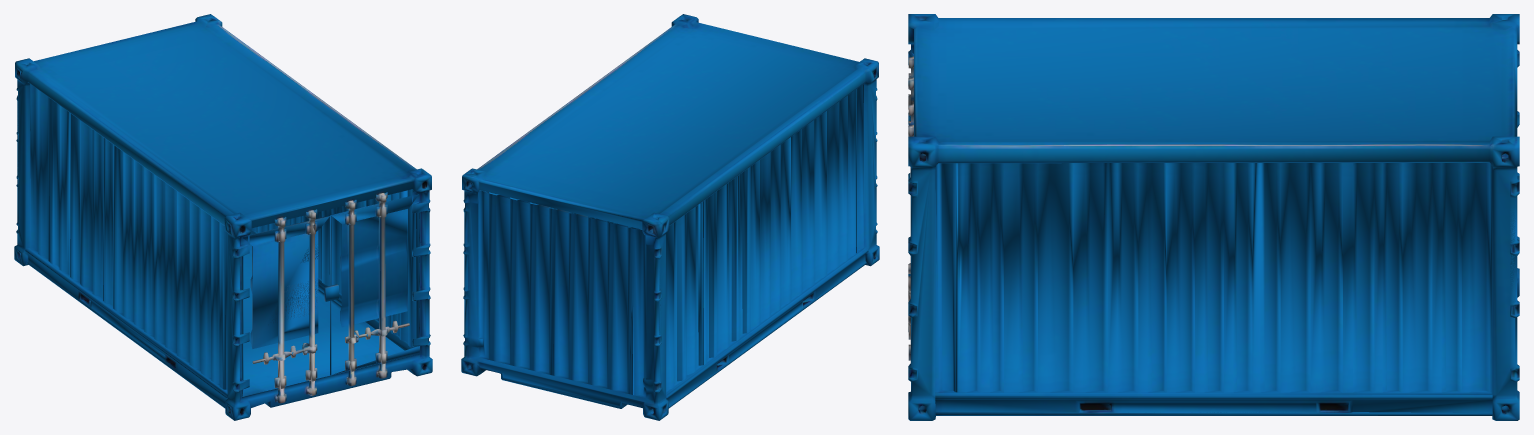
The model's file is blue_shipping_container_63cc3905_v4.glb.
3 renders of one model, left to right at view 1: azimuth 30°, elevation 25°; view 2: azimuth 150°, elevation 25°; view 3: azimuth 270°, elevation 25°, orthographic. The views are drawn at different scales.
Visible parts, largest first — view 1: material; view 2: material; view 3: material.
Part boxes in pixels (x1,y1,x2,y2): material: [14, 14, 432, 420]; material: [461, 14, 879, 420]; material: [908, 14, 1519, 420].
Bounding box in the file's own units: 0.9871 × 0.9402 × 1.9.
Materials: 1 (1 with a texture image).
